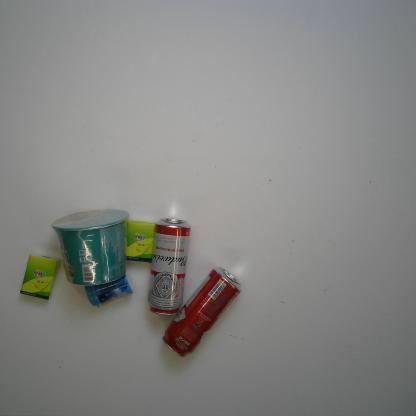Alcohol: (161, 266, 243, 359), (146, 217, 191, 317)
Gum: (84, 273, 134, 309)
Instant Noodles: (50, 209, 130, 287)
Tissue: (19, 251, 61, 301), (124, 220, 156, 264)
